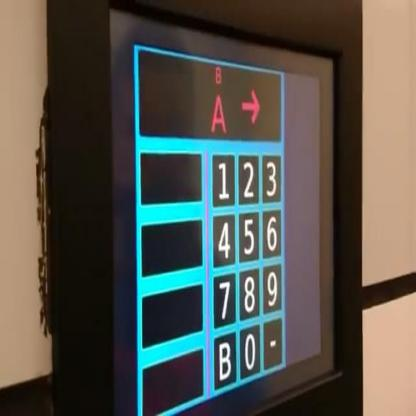-: (262, 314, 283, 370)
0: (238, 320, 261, 380)
1: (210, 150, 236, 208)
2: (236, 152, 260, 205)
3: (260, 152, 282, 204)
4: (210, 211, 235, 268)
5: (237, 209, 259, 263)
6: (261, 206, 282, 259)
7: (212, 270, 236, 330)
8: (237, 264, 260, 322)
9: (262, 261, 282, 316)
B: (212, 328, 237, 392)
led: (136, 46, 282, 144)
